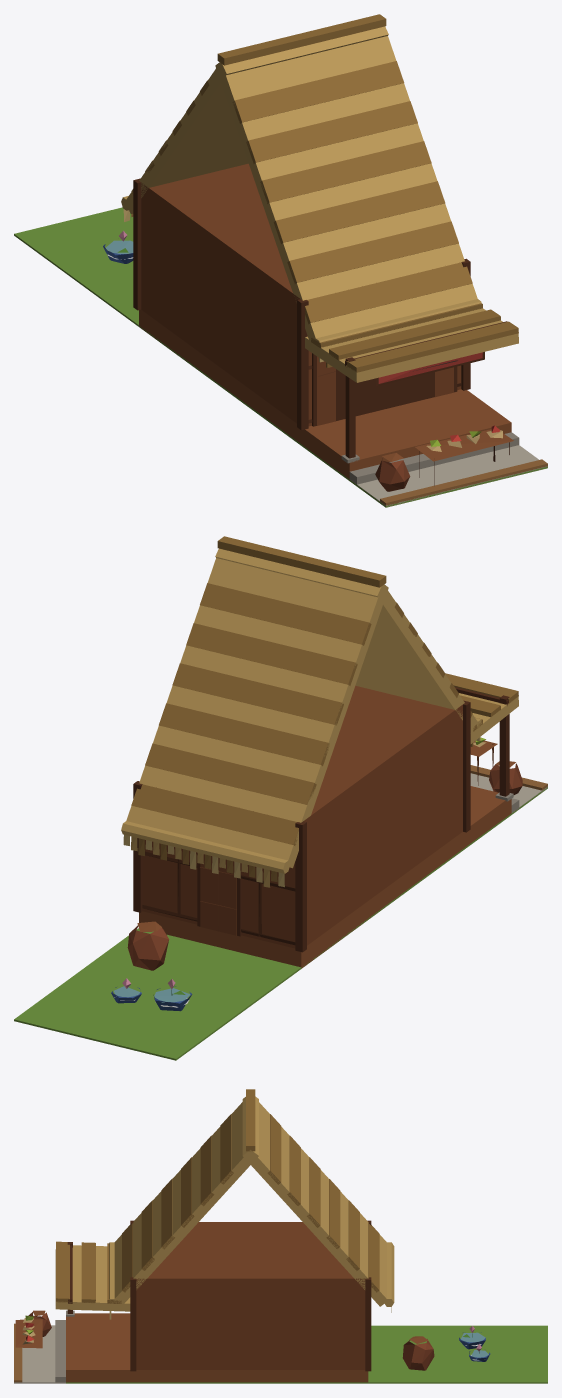
File: bay1_mid.glb
The picture shows the model from 3 angles, top to bottom: view 1: azimuth 30°, elevation 25°; view 2: azimuth 150°, elevation 25°; view 3: azimuth 270°, elevation 25°; orthographic projection. The views are drawn at different scales.
Visible parts, largest first — view 1: body; view 2: body; view 3: body.
Part boxes in pixels (x1,y1,x2,y2): body: (14,14,547,507); body: (14,536,547,1060); body: (14,1089,547,1383).
Size of the model in its own units: 4.18 by 7.82 by 15.9.
